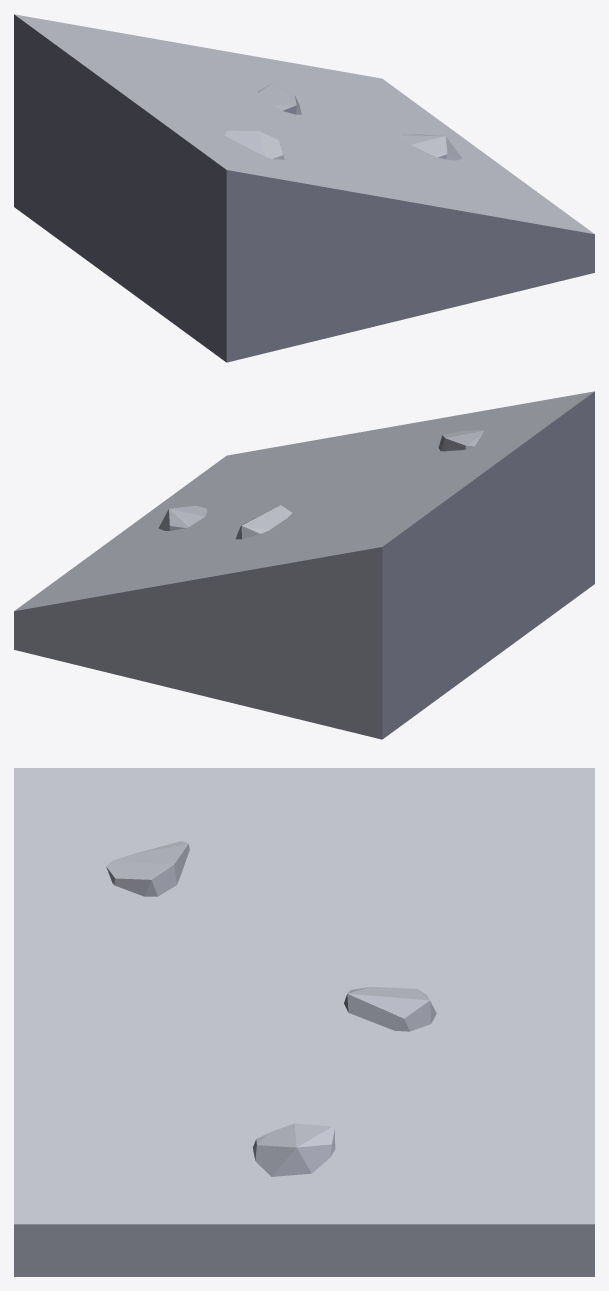
File: rocks-ramp.glb
3 views of the same model, one above another, from view 1: azimuth 30°, elevation 25°; view 2: azimuth 150°, elevation 25°; view 3: azimuth 270°, elevation 25° (orthographic). The views are drawn at different scales.
Visible parts, largest first — view 1: rocks-ramp; view 2: rocks-ramp; view 3: rocks-ramp.
Part boxes in pixels (left/top/right/bottom): rocks-ramp: left=14, top=14, right=594, bottom=362; rocks-ramp: left=14, top=391, right=594, bottom=739; rocks-ramp: left=14, top=768, right=594, bottom=1276.
Bounding box in the file's own units: 1 × 0.5 × 1.
Materials: 1 (1 with a texture image).
